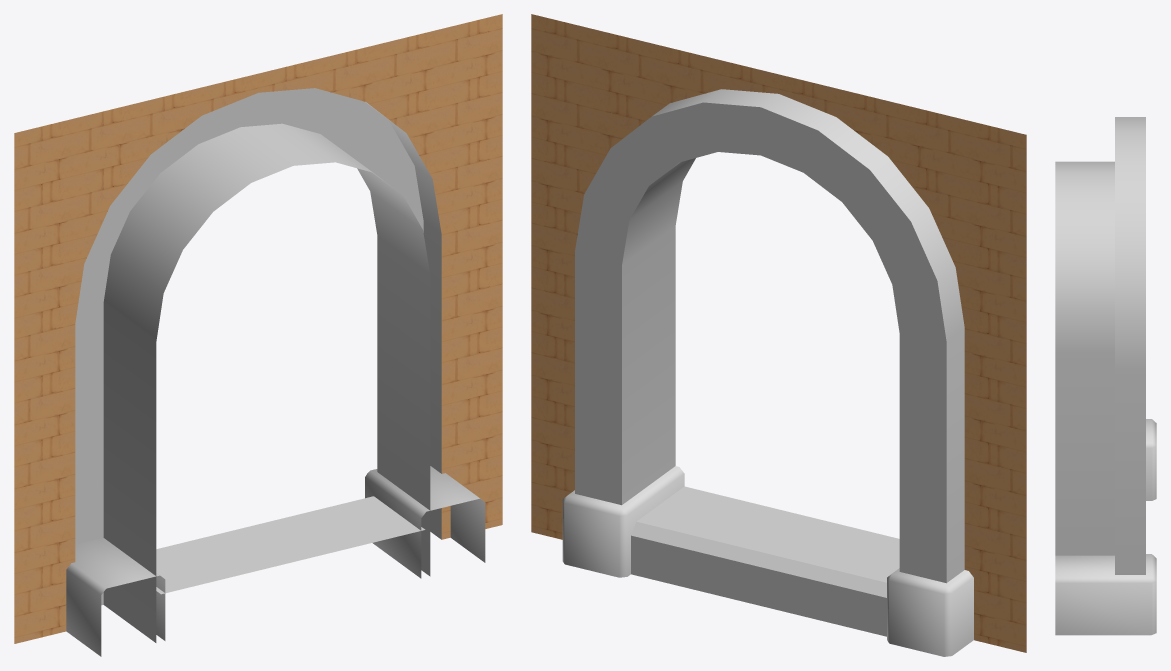
File: Arc_Wall_4x4.fbx
3 views of the same model, side by side, from view 1: azimuth 30°, elevation 25°; view 2: azimuth 150°, elevation 25°; view 3: azimuth 270°, elevation 25° (orthographic). The views are drawn at different scales.
Parts seen in each view (by area): view 1: Arc_Wall_4x4; view 2: Arc_Wall_4x4; view 3: Arc_Wall_4x4.
Part boxes in pixels (x1=…): Arc_Wall_4x4: x1=14, y1=14, x2=502, y2=656; Arc_Wall_4x4: x1=531, y1=14, x2=1026, y2=656; Arc_Wall_4x4: x1=1055, y1=117, x2=1156, y2=635.
Bounding box in the file's own units: 400 × 400 × 83.99.
